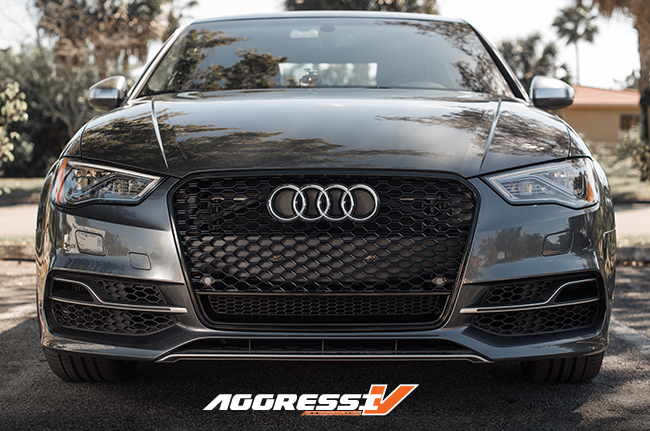audi: (259, 177, 386, 234)
